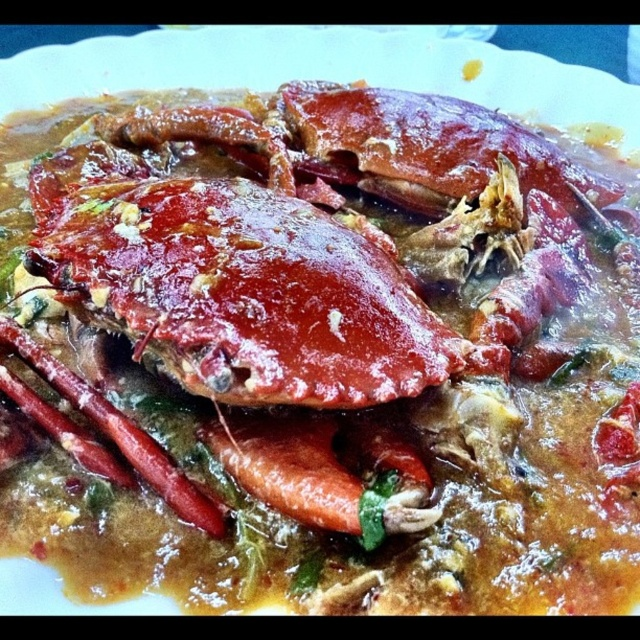Crab: (0, 106, 619, 533), (99, 81, 639, 294), (0, 307, 230, 539), (587, 376, 639, 520)
